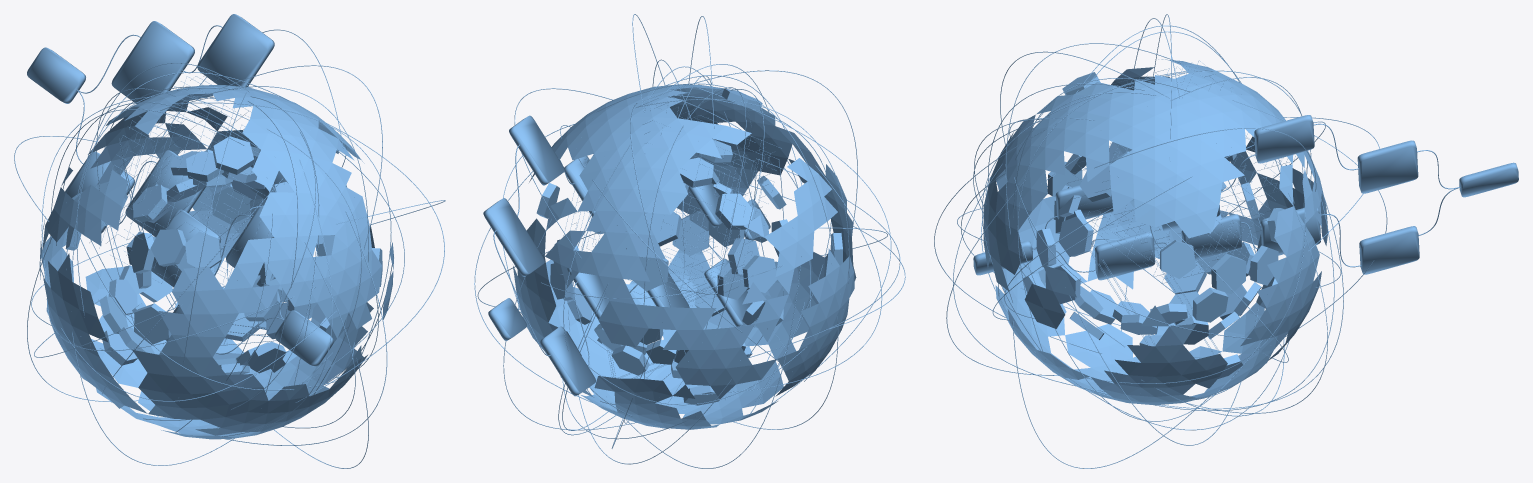
The model's file is chain2.glb.
3 renders of one model, left to right at view 1: azimuth 30°, elevation 25°; view 2: azimuth 150°, elevation 25°; view 3: azimuth 270°, elevation 25°, orthographic. The views are drawn at different scales.
Visible parts, largest first — view 1: Chain2, Plane, Chain, Phone; view 2: Chain2, Plane, Chain, Phone; view 3: Chain2, Plane, Chain, Phone.
Boxes of the visible parts, x1,y1,x2,y2 form: Chain2: (14,29,445,468); Plane: (65,136,382,374); Chain: (27,14,333,366); Phone: (89,66,285,345); Chain2: (474,14,905,468); Plane: (536,88,842,405); Chain: (483,115,770,396); Phone: (563,98,781,378); Chain2: (934,14,1387,468); Plane: (1023,72,1284,378); Chain: (973,115,1518,280); Phone: (1067,60,1295,359).
Size of the model in its own units: 3.62 by 3.65 by 4.93.
